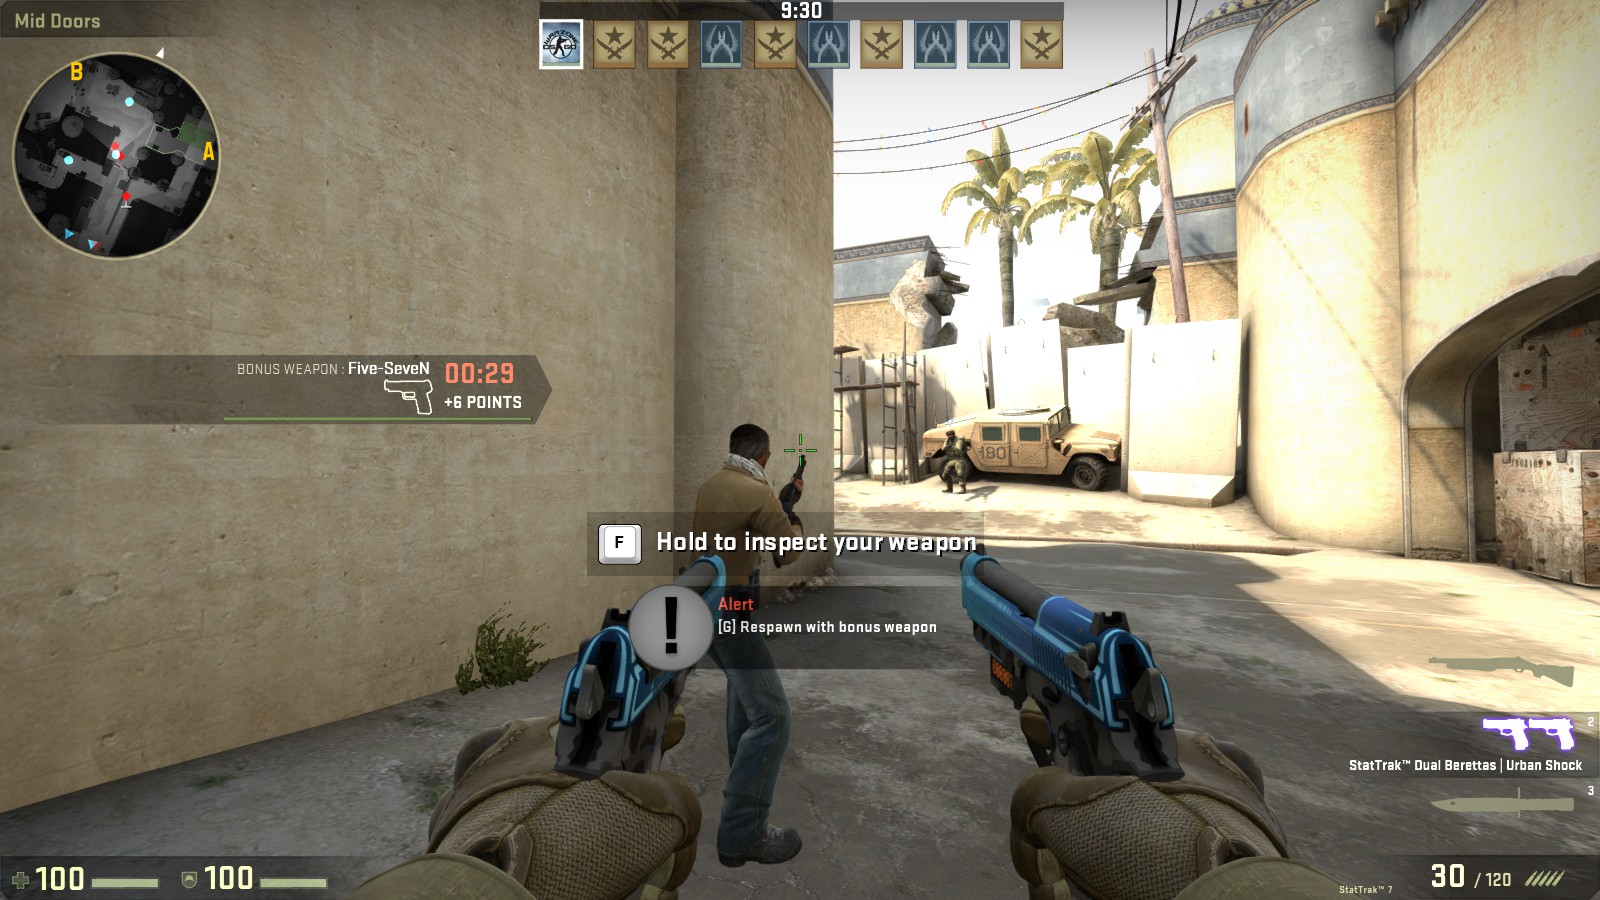c: (934, 431, 968, 495)
t: (676, 415, 816, 860)
th: (720, 425, 779, 485)
